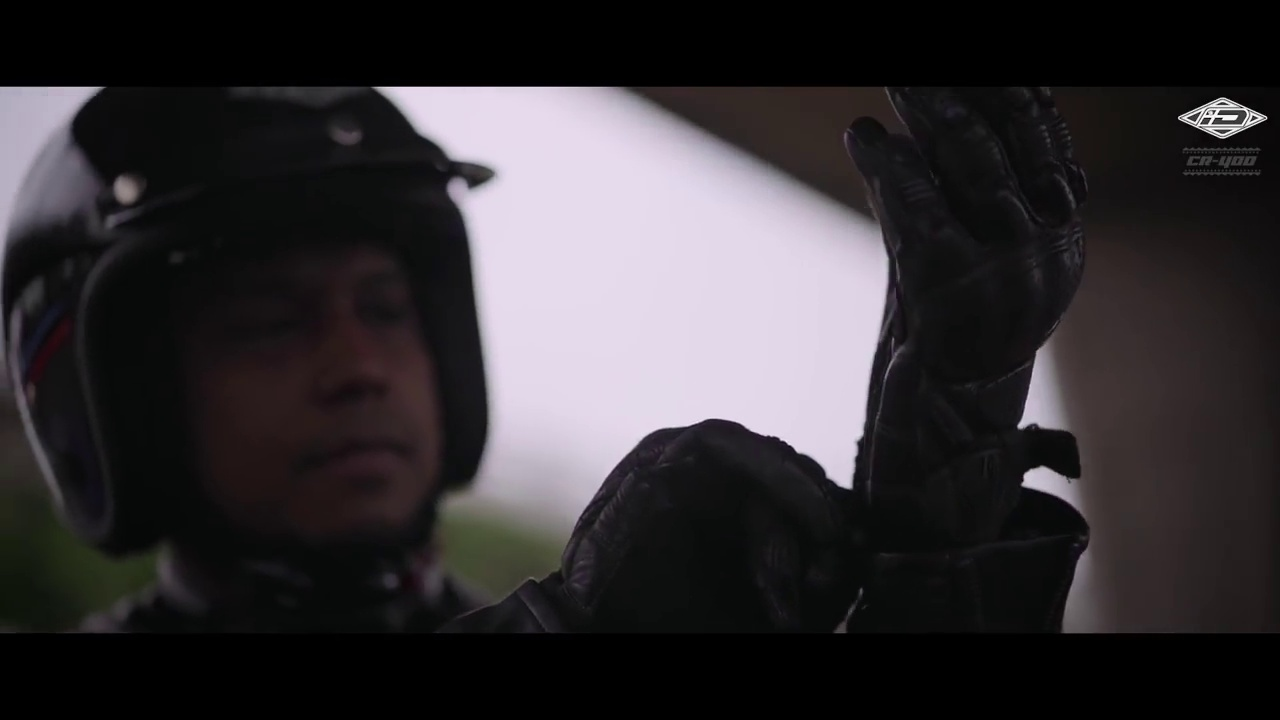helmet: (0, 81, 522, 554)
